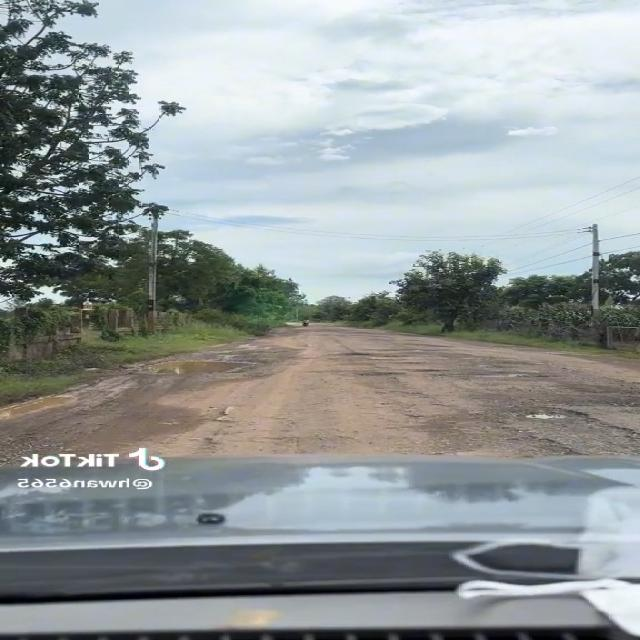Poth-hole: (451, 351, 513, 406)
